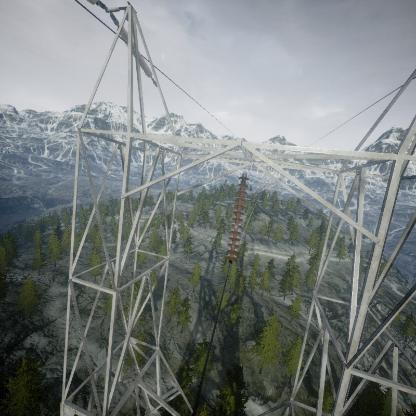insulator: (224, 172, 251, 263)
